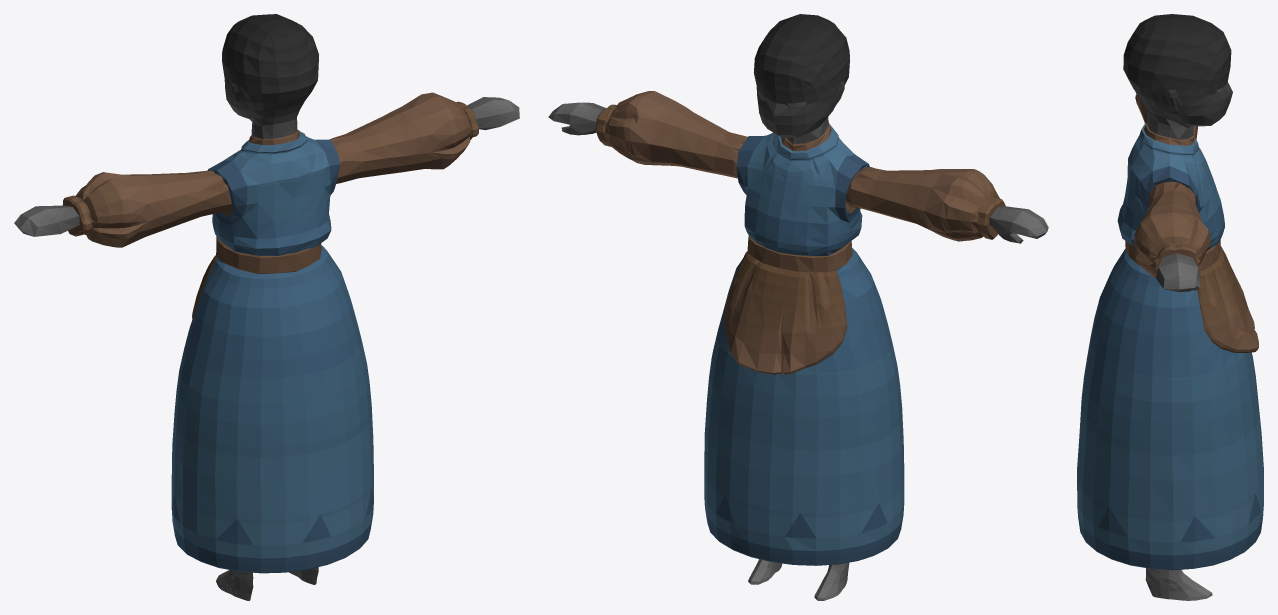
The model's file is CharSkyKid_Body_AP31WorkerDress.glb.
3 renders of one model, left to right at view 1: azimuth 30°, elevation 25°; view 2: azimuth 150°, elevation 25°; view 3: azimuth 270°, elevation 25°, orthographic.
Parts seen in each view (by area): view 1: CharSkyKid_Body_AP31WorkerDress; view 2: CharSkyKid_Body_AP31WorkerDress; view 3: CharSkyKid_Body_AP31WorkerDress.
Boxes of the visible parts, bbox=[...] form: CharSkyKid_Body_AP31WorkerDress: bbox=[14, 14, 519, 600]; CharSkyKid_Body_AP31WorkerDress: bbox=[548, 14, 1048, 600]; CharSkyKid_Body_AP31WorkerDress: bbox=[1077, 14, 1263, 600].
Size of the model in its own units: 13.83 by 14.94 by 4.5.
Materials: 1 (1 with a texture image).
